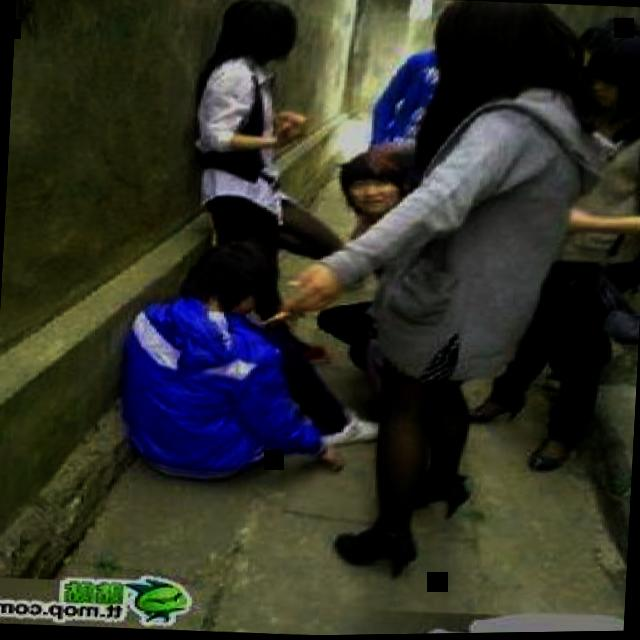Fall-Detected: (104, 218, 388, 494)
